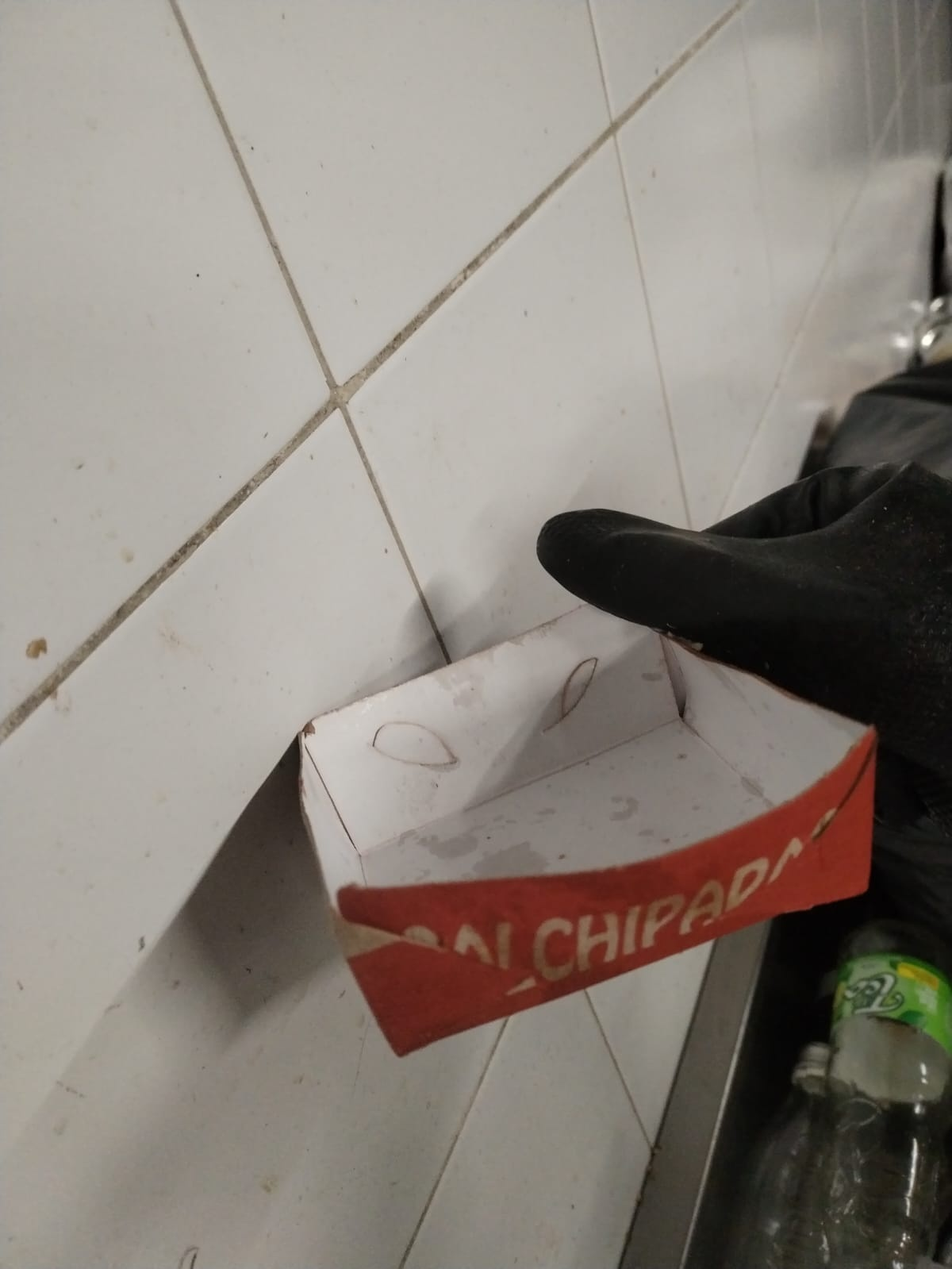Carton: (299, 598, 874, 1058)
